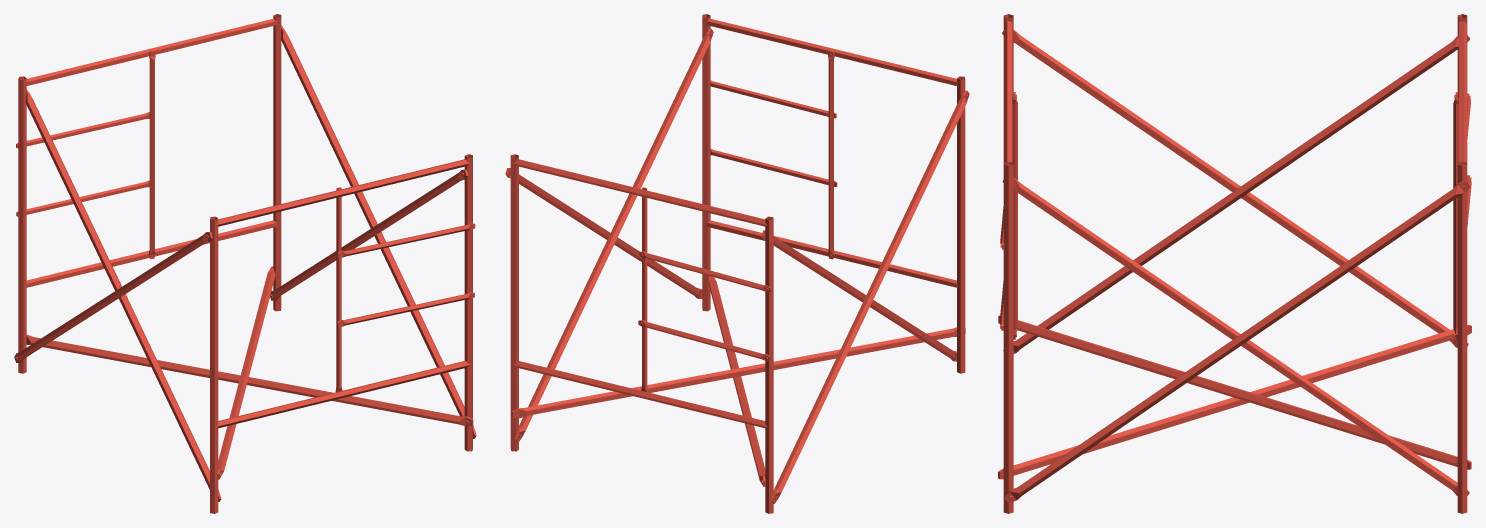
Rendered from SM_Scaffolding_B_Movie.fbx.
The picture shows the model from 3 angles, left to right: view 1: azimuth 30°, elevation 25°; view 2: azimuth 150°, elevation 25°; view 3: azimuth 270°, elevation 25°; orthographic projection. The views are drawn at different scales.
Visible parts, largest first — view 1: SM_Scaffolding_B_Movie; view 2: SM_Scaffolding_B_Movie; view 3: SM_Scaffolding_B_Movie.
Part boxes in pixels (box(x1,y1,x2,y2)): SM_Scaffolding_B_Movie: box(14, 14, 476, 513); SM_Scaffolding_B_Movie: box(505, 14, 969, 513); SM_Scaffolding_B_Movie: box(998, 14, 1471, 513).
Size of the model in its own units: 271 by 213 by 220.
